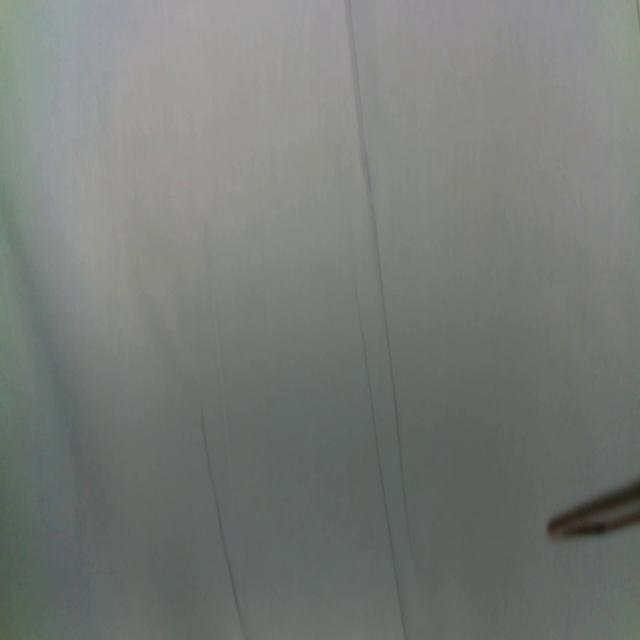crease: (343, 0, 411, 539), (353, 289, 410, 640), (199, 405, 245, 640), (206, 222, 232, 456)
